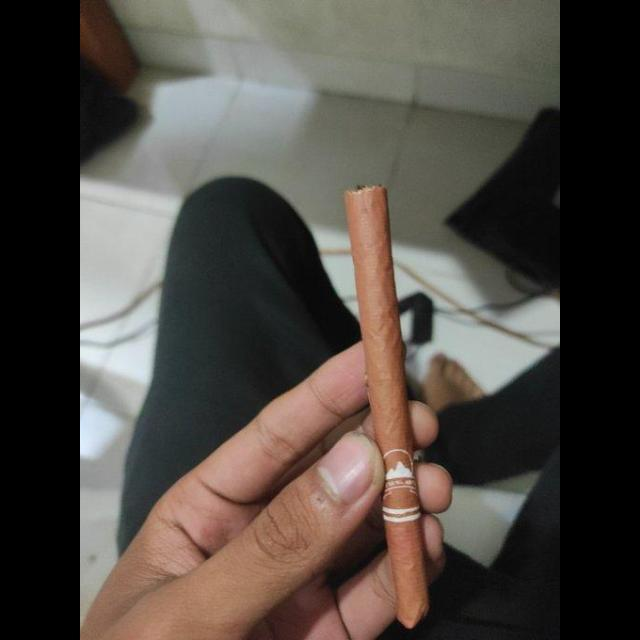rokok: (341, 176, 442, 634)
